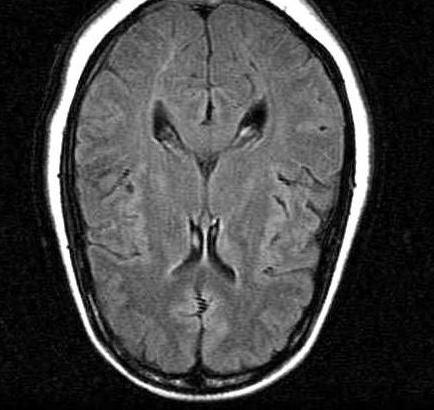Normal_Brain: (1, 1, 367, 405)
